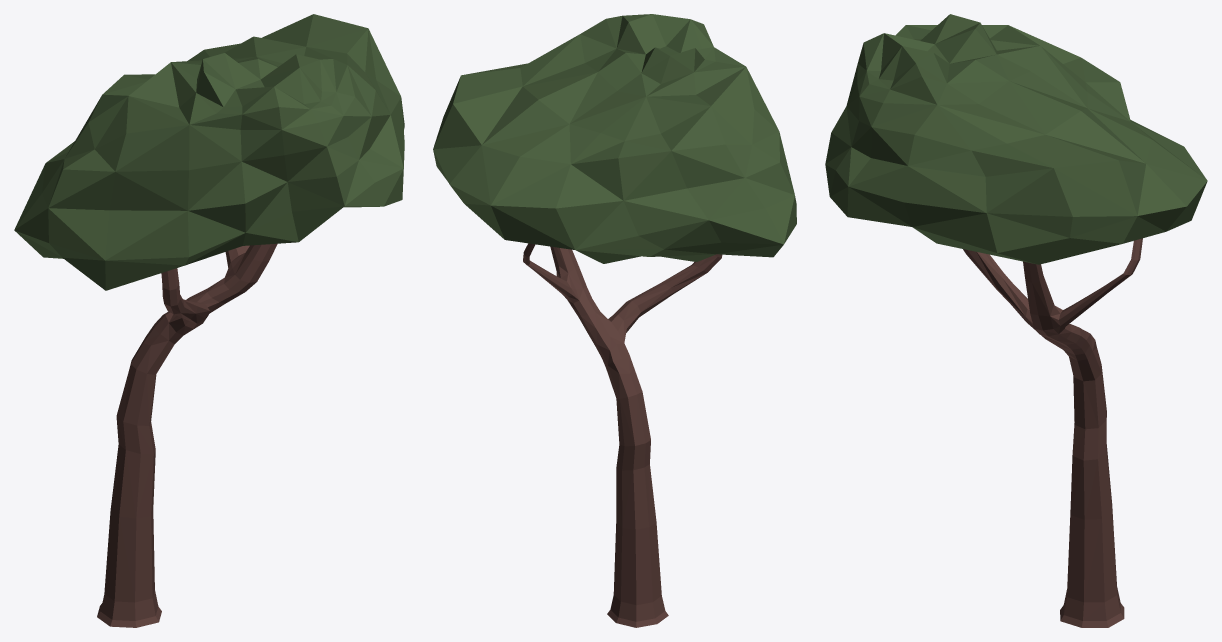
File: tree_orange.harvested.glb
3 views of the same model, side by side, from view 1: azimuth 30°, elevation 25°; view 2: azimuth 150°, elevation 25°; view 3: azimuth 270°, elevation 25° (orthographic). The views are drawn at different scales.
Size of the model in its own units: 0.6518 by 1 by 0.5714.
